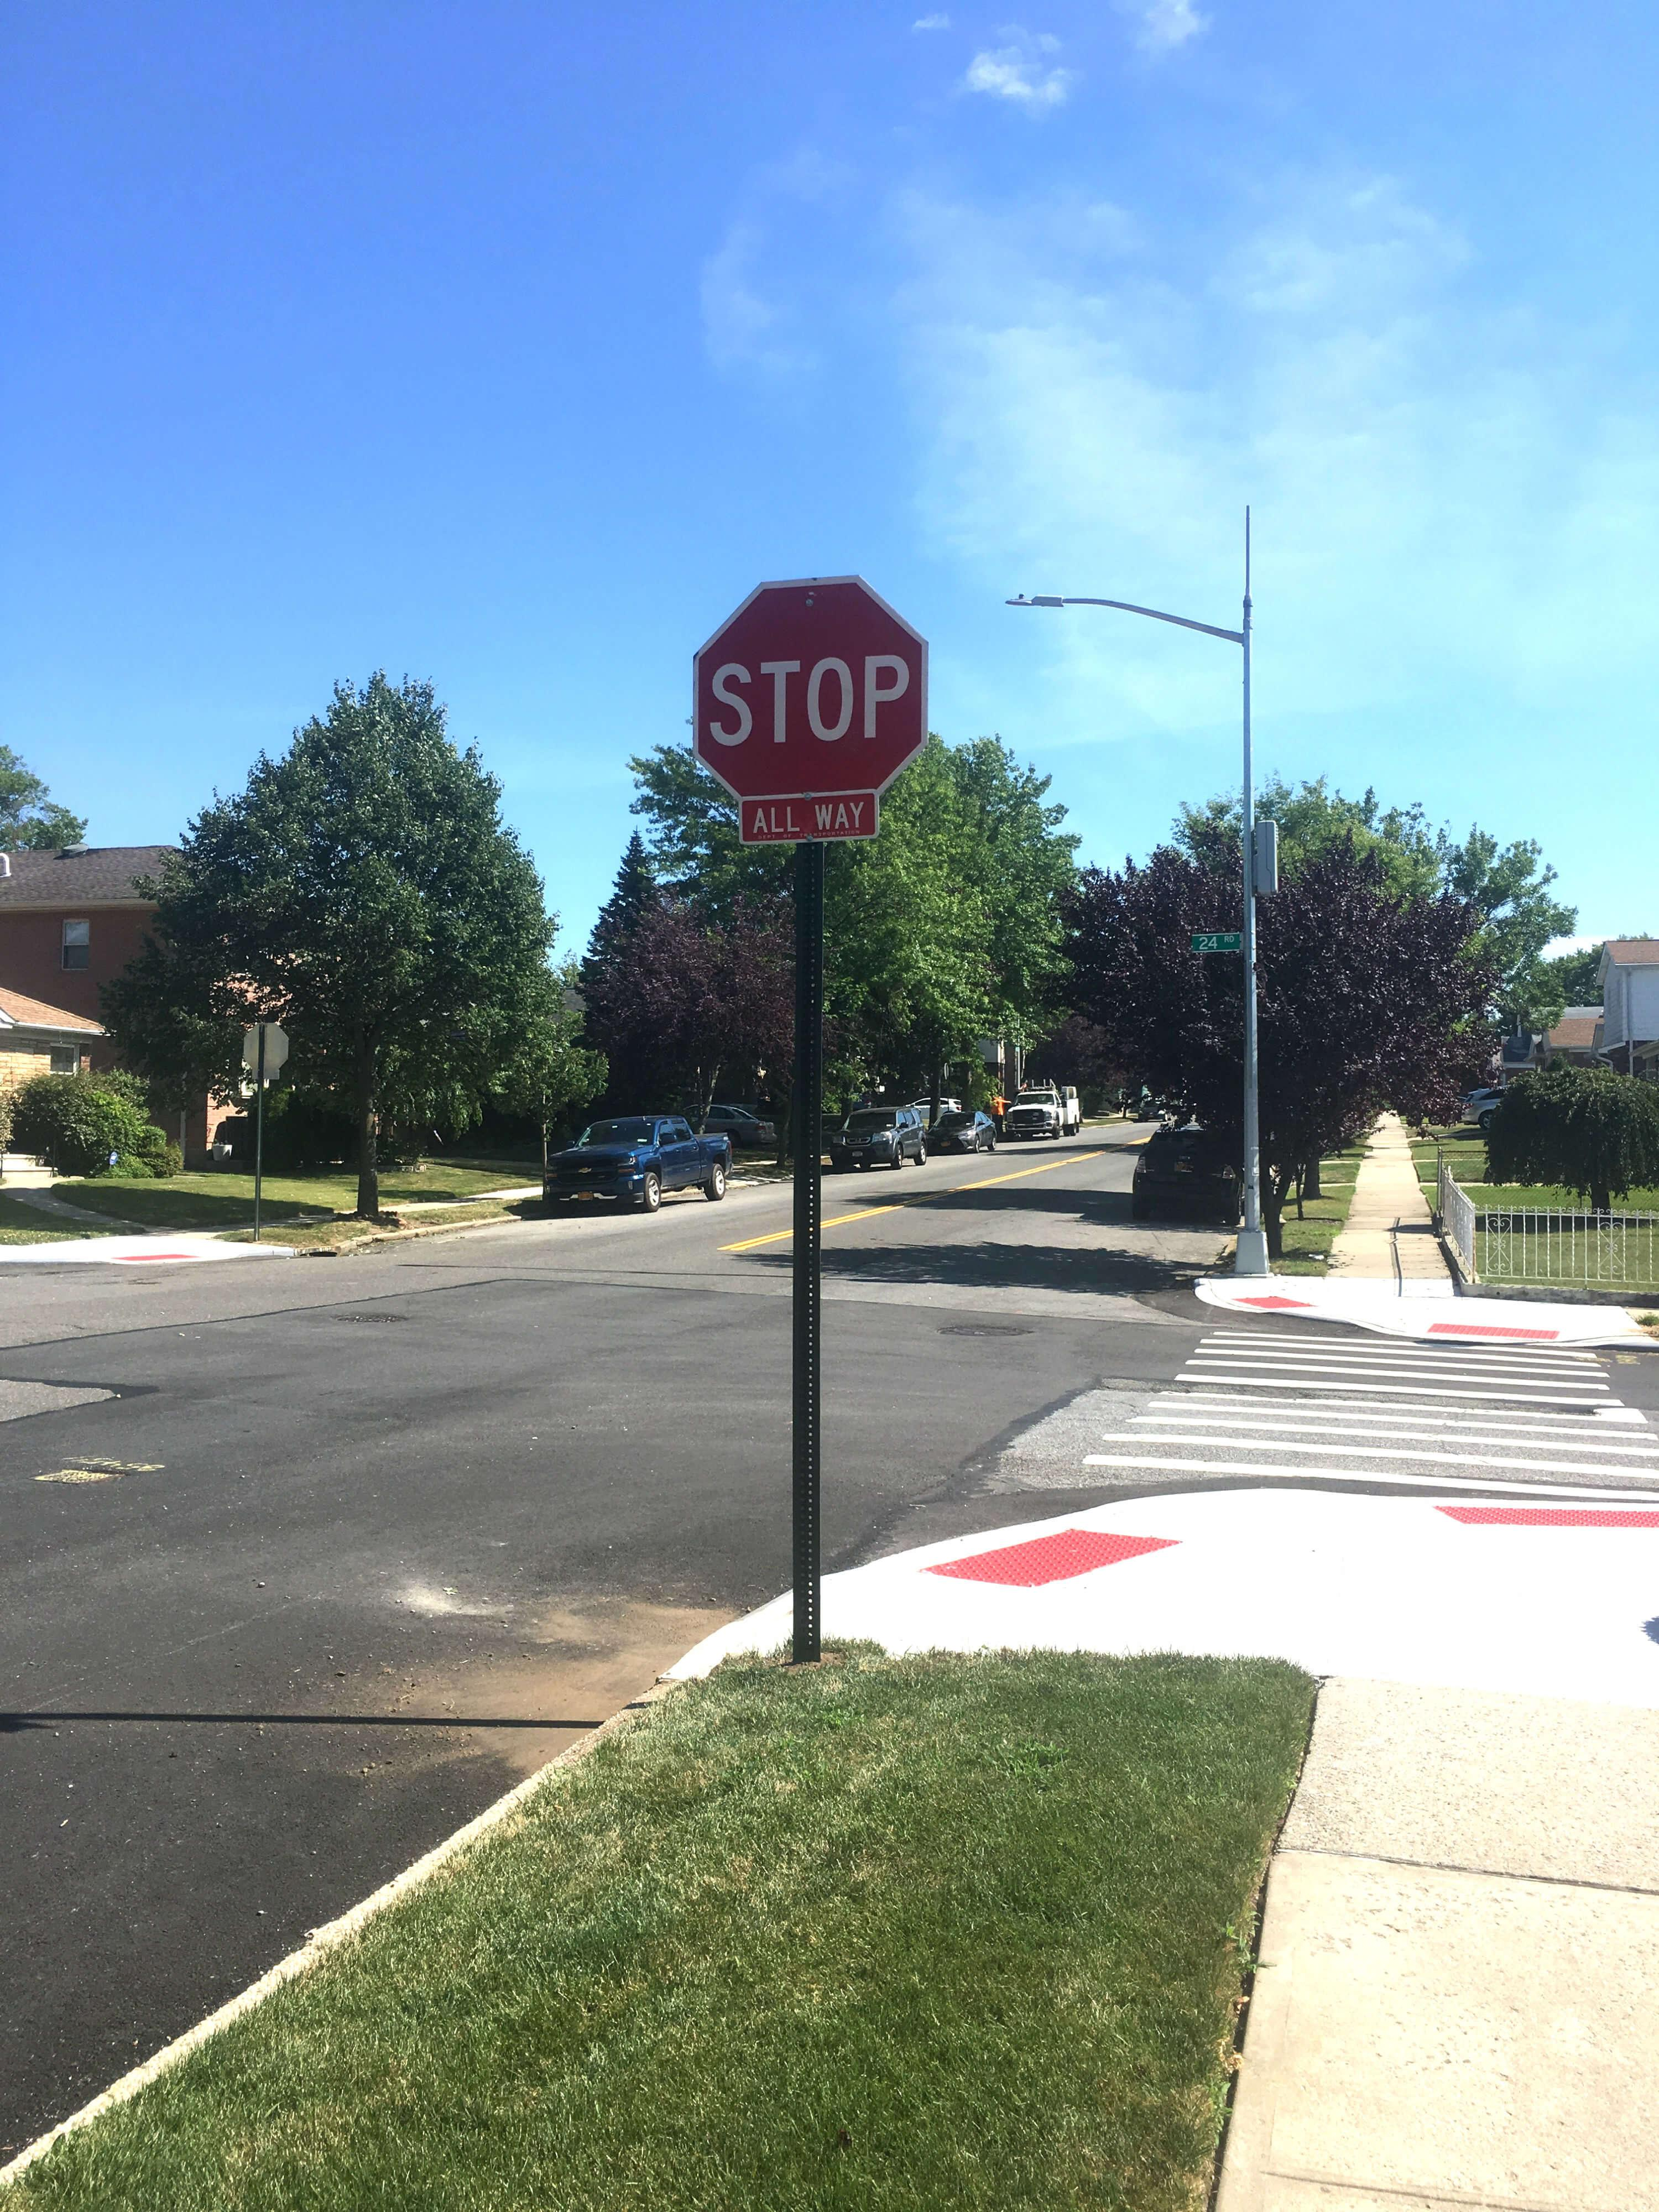Pole: (788, 846, 824, 1660), (256, 1082, 260, 1244)
Sign: (694, 580, 932, 805), (244, 1021, 288, 1073)
